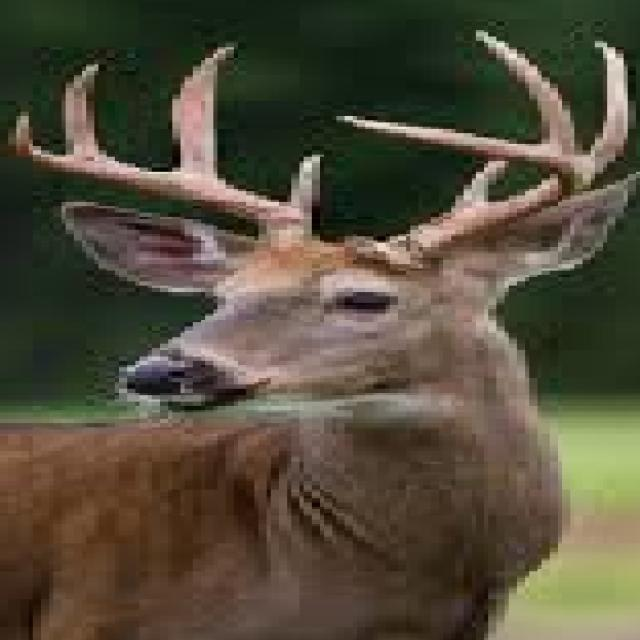L-G1: (289, 150, 327, 211)
L-G2: (170, 39, 239, 183), (590, 39, 633, 179)
L-G3: (471, 27, 583, 151), (60, 60, 115, 160)
L-G4: (329, 113, 533, 166)
L-R: (3, 107, 328, 251)
